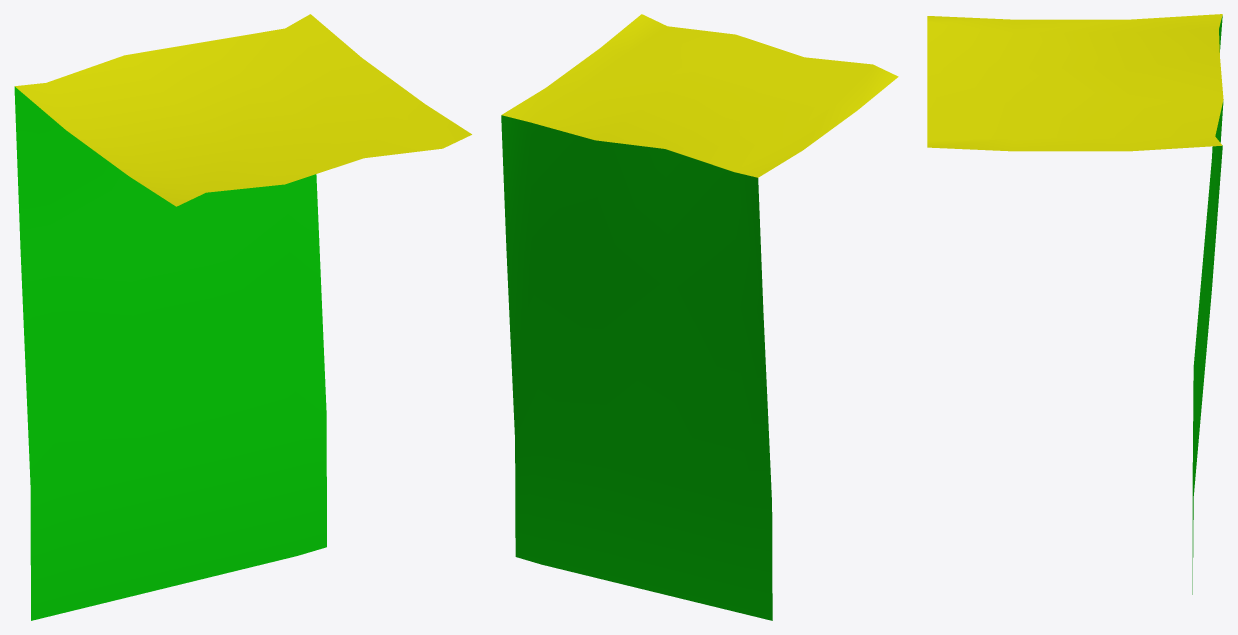
File: sm_Ground_Center.fbx
3 views of the same model, side by side, from view 1: azimuth 30°, elevation 25°; view 2: azimuth 150°, elevation 25°; view 3: azimuth 270°, elevation 25° (orthographic). The views are drawn at different scales.
Visible parts, largest first — view 1: Ground_Center; view 2: Ground_Center; view 3: Ground_Center.
Boxes of the visible parts, box(x1,y1,x2,y2) form: Ground_Center: box(14, 14, 471, 620); Ground_Center: box(501, 14, 898, 620); Ground_Center: box(927, 14, 1223, 594).
Bounding box in the file's own units: 600 × 1023 × 570.
